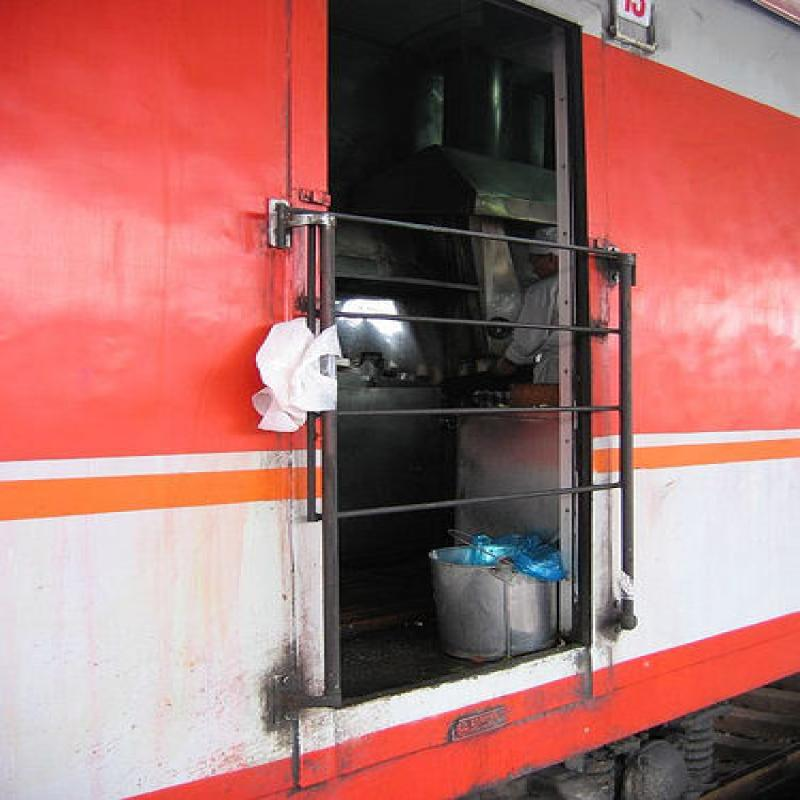train: (1, 1, 799, 799)
